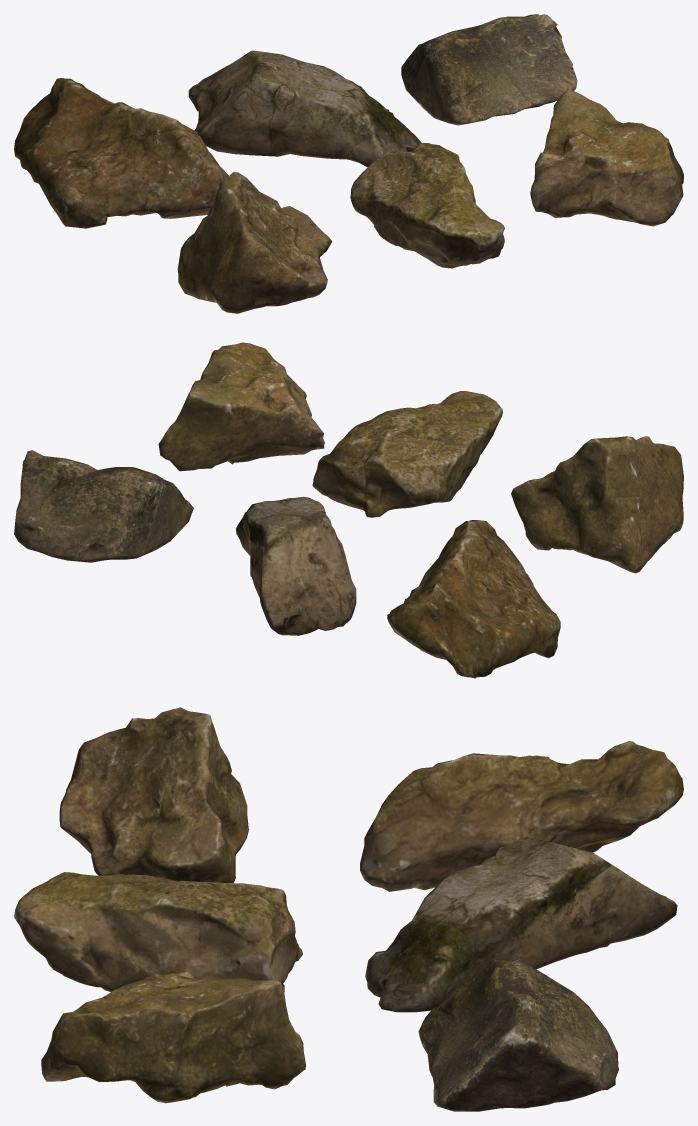
The model's file is rock_moss_set_01_lod.gltf.
The picture shows the model from 3 angles, top to bottom: view 1: azimuth 30°, elevation 25°; view 2: azimuth 150°, elevation 25°; view 3: azimuth 270°, elevation 25°; orthographic projection. The views are drawn at different scales.
Parts seen in each view (by area): view 1: rock_moss_set_01_rock01, rock_moss_set_01_rock02, rock_moss_set_01_rock06, rock_moss_set_01_rock04, rock_moss_set_01_rock03, rock_moss_set_01_rock05; view 2: rock_moss_set_01_rock04, rock_moss_set_01_rock01, rock_moss_set_01_rock05, rock_moss_set_01_rock03, rock_moss_set_01_rock06, rock_moss_set_01_rock02; view 3: rock_moss_set_01_rock01, rock_moss_set_01_rock02, rock_moss_set_01_rock05, rock_moss_set_01_rock04, rock_moss_set_01_rock06, rock_moss_set_01_rock03.
Part boxes in pixels (<box>): rock_moss_set_01_rock01: <box>14,78,228,228</box>; rock_moss_set_01_rock02: <box>188,50,421,167</box>; rock_moss_set_01_rock06: <box>530,89,683,226</box>; rock_moss_set_01_rock04: <box>177,171,331,313</box>; rock_moss_set_01_rock03: <box>401,14,577,125</box>; rock_moss_set_01_rock05: <box>350,142,504,268</box>; rock_moss_set_01_rock04: <box>511,436,683,573</box>; rock_moss_set_01_rock01: <box>387,520,560,678</box>; rock_moss_set_01_rock05: <box>312,391,502,517</box>; rock_moss_set_01_rock03: <box>14,450,193,562</box>; rock_moss_set_01_rock06: <box>158,342,324,471</box>; rock_moss_set_01_rock02: <box>236,496,356,635</box>; rock_moss_set_01_rock01: <box>360,741,683,891</box>; rock_moss_set_01_rock02: <box>365,836,677,1012</box>; rock_moss_set_01_rock05: <box>14,872,302,991</box>; rock_moss_set_01_rock04: <box>59,707,248,882</box>; rock_moss_set_01_rock06: <box>41,971,305,1103</box>; rock_moss_set_01_rock03: <box>418,959,618,1111</box>.
Bounding box in the file's own units: 8 × 1.77 × 6.94.
Materials: 1 (1 with a texture image).
